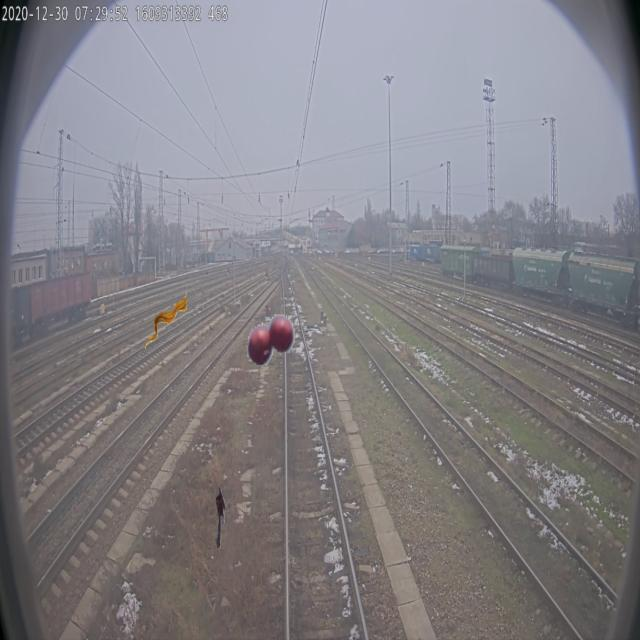balloon: (246, 304, 295, 368)
floating object: (144, 289, 188, 353), (215, 484, 225, 548)
